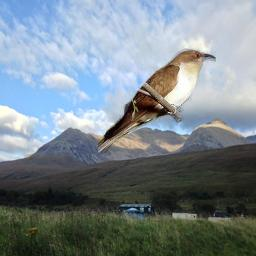Cuckoo: (98, 48, 216, 153)
